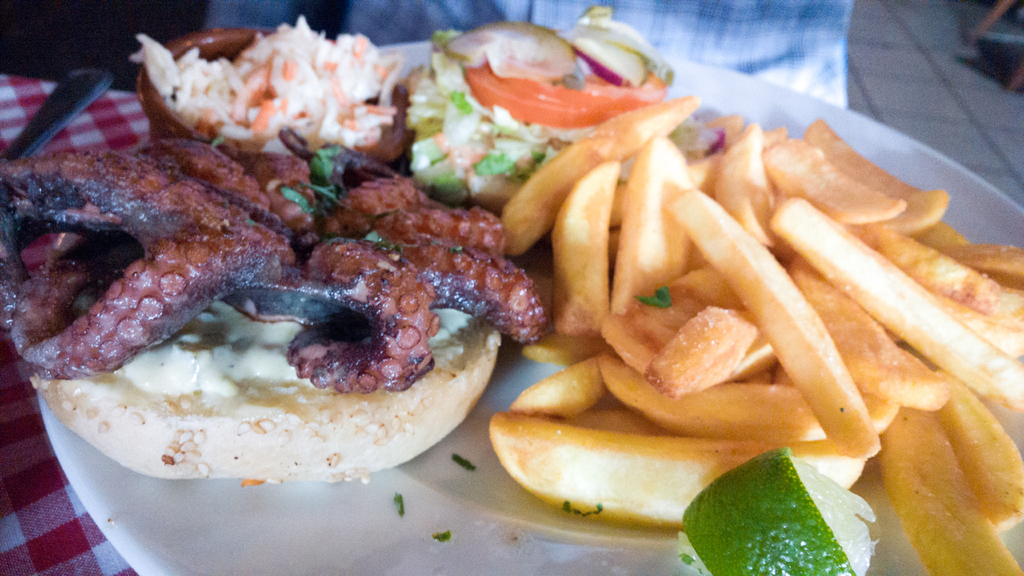French fries: (501, 98, 1023, 575)
